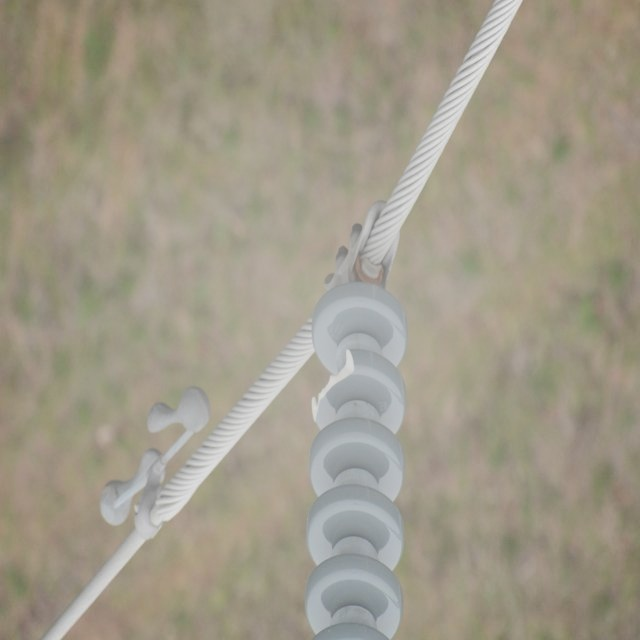broken: (312, 351, 362, 421)
insulator: (304, 281, 405, 640)
